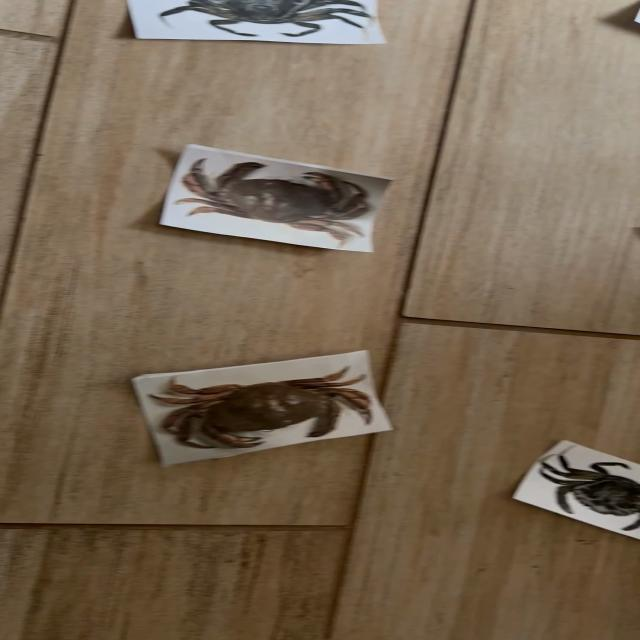egc: (127, 0, 386, 45), (514, 453, 639, 531)
